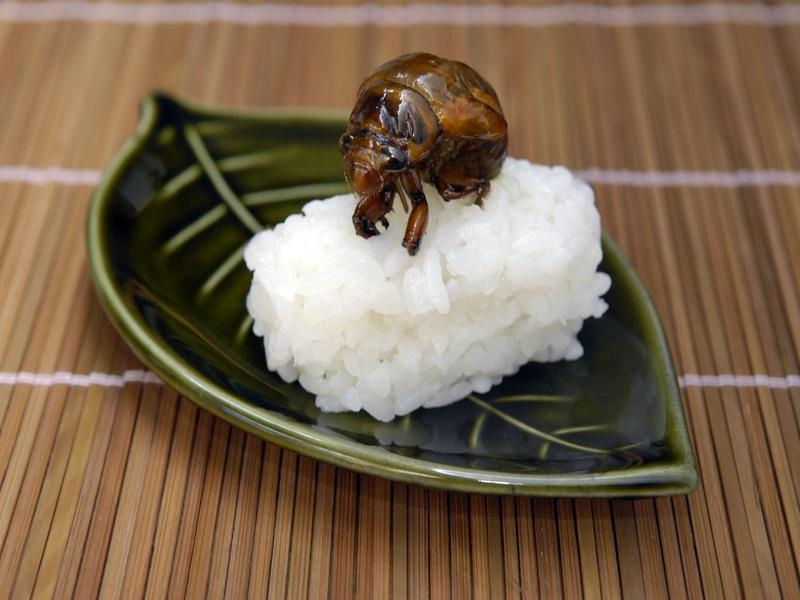Rice_horned_caterpillar: (319, 46, 516, 250)
